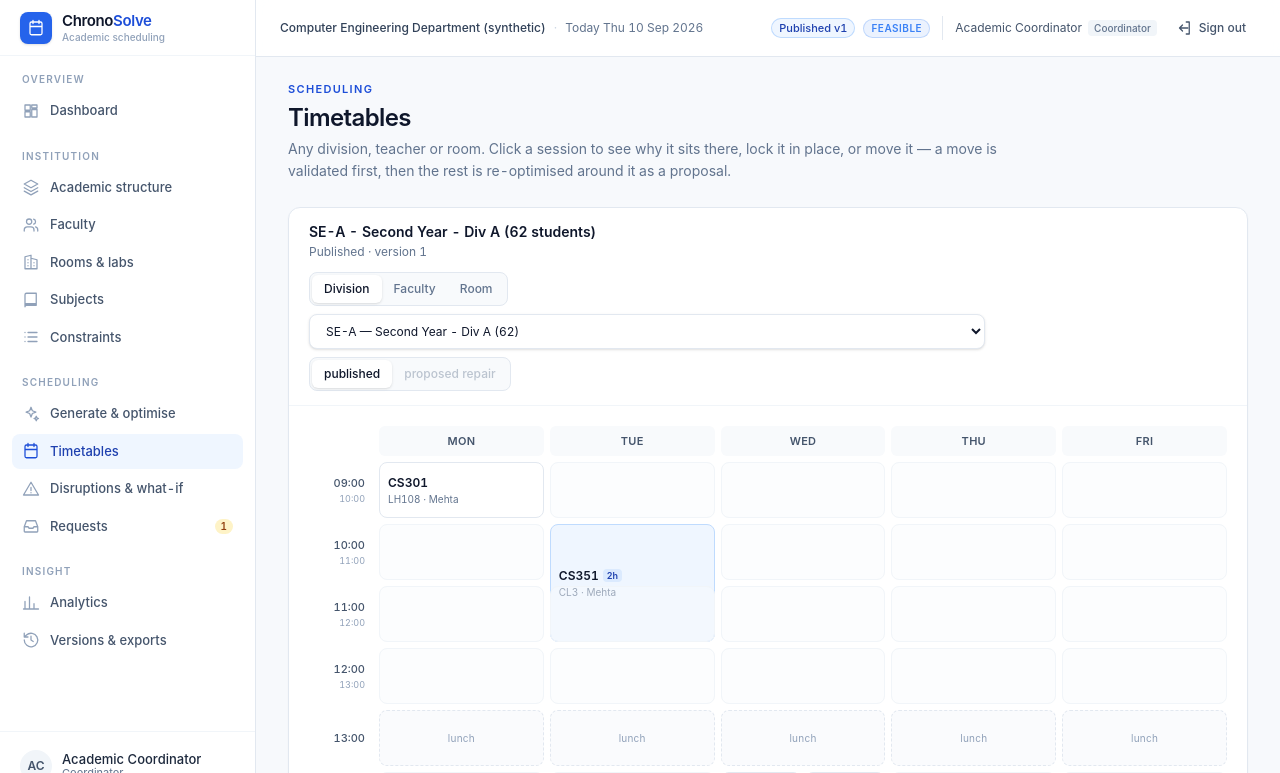
Test: timetables › explains a session when its card is clicked, and closes again
This screenshot has width=1280, height=773.
expect the navigation bar named "Main" is shown: met, box top-left (0, 56), bottom-right (255, 731)
Click the text "CS351": (579, 576) top-left (559, 566), bottom-right (599, 584)
(page scrolled)
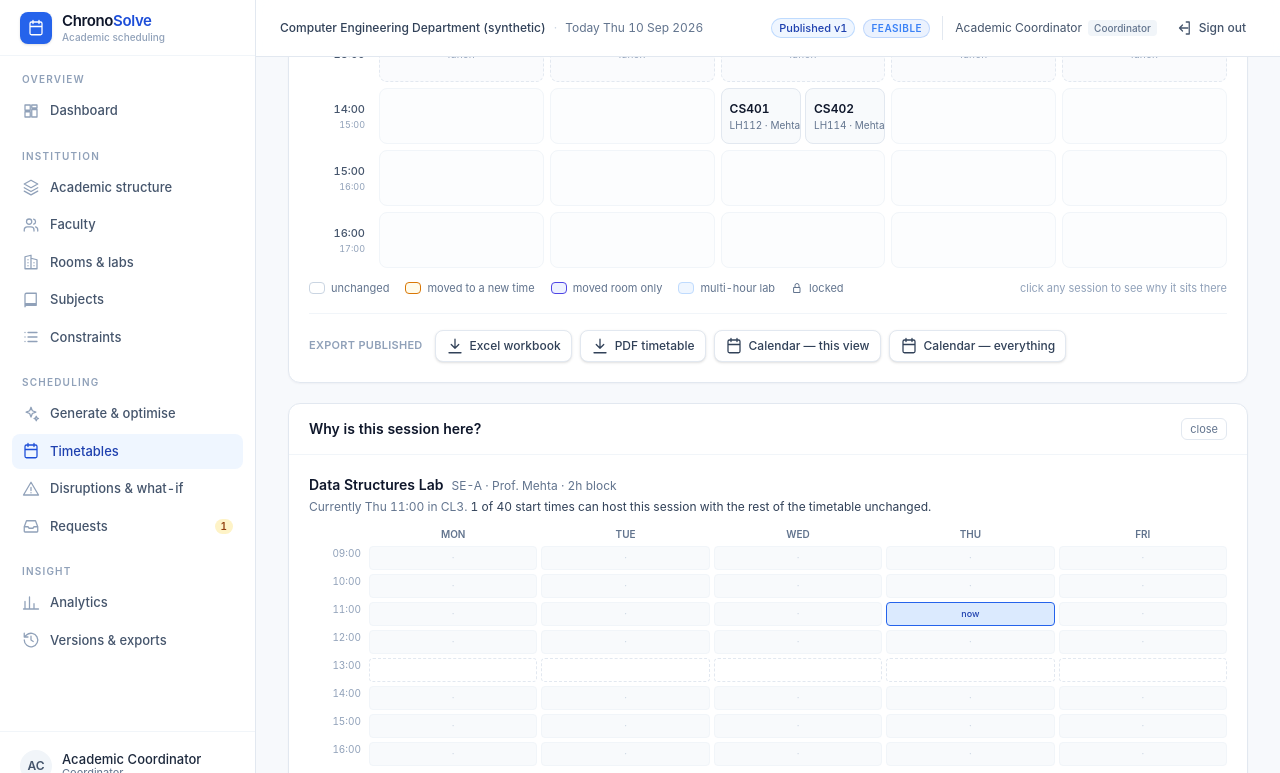
expect the text "1 of 40 start times" is shown: met, box top-left (471, 499), bottom-right (931, 514)
expect the heading "Why is this session here?" is shown: met, box top-left (309, 419), bottom-right (481, 439)
Click the button "close": (1204, 429) top-left (1181, 418), bottom-right (1227, 440)
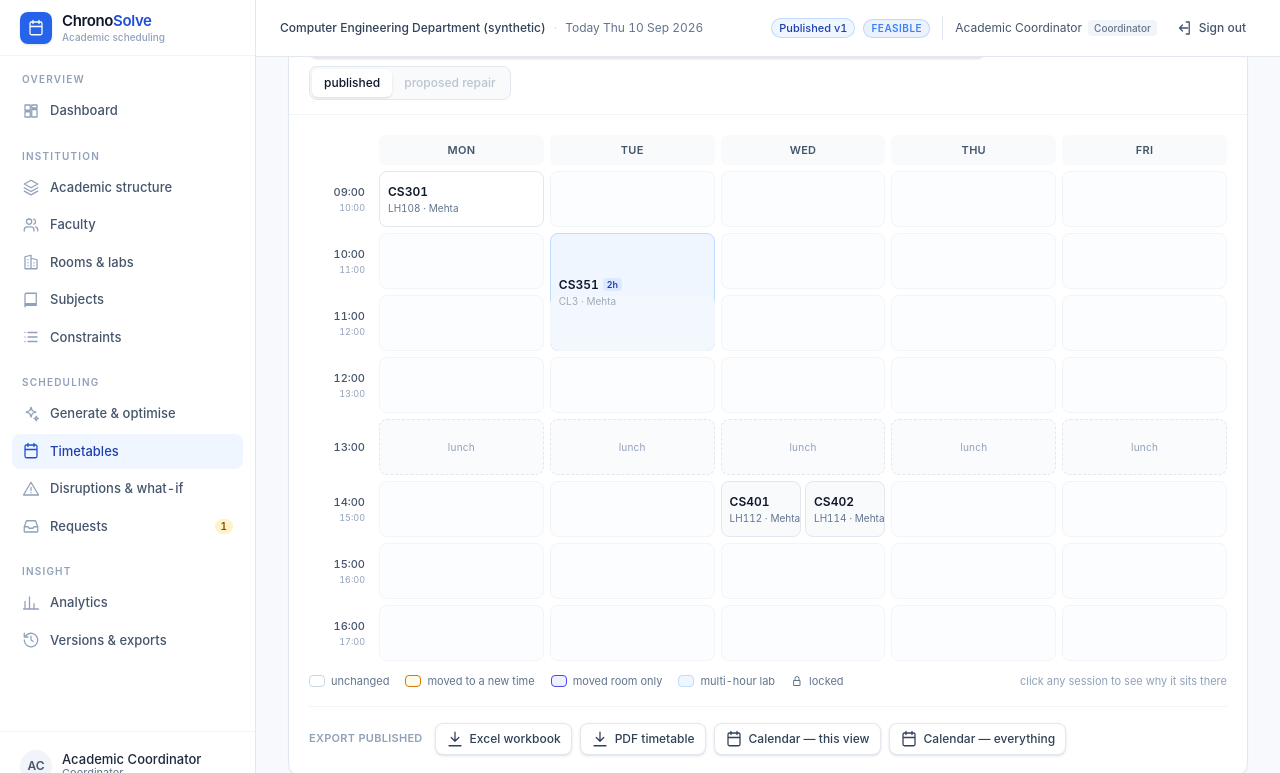
expect the text "1 of 40 start times" is gone: met
